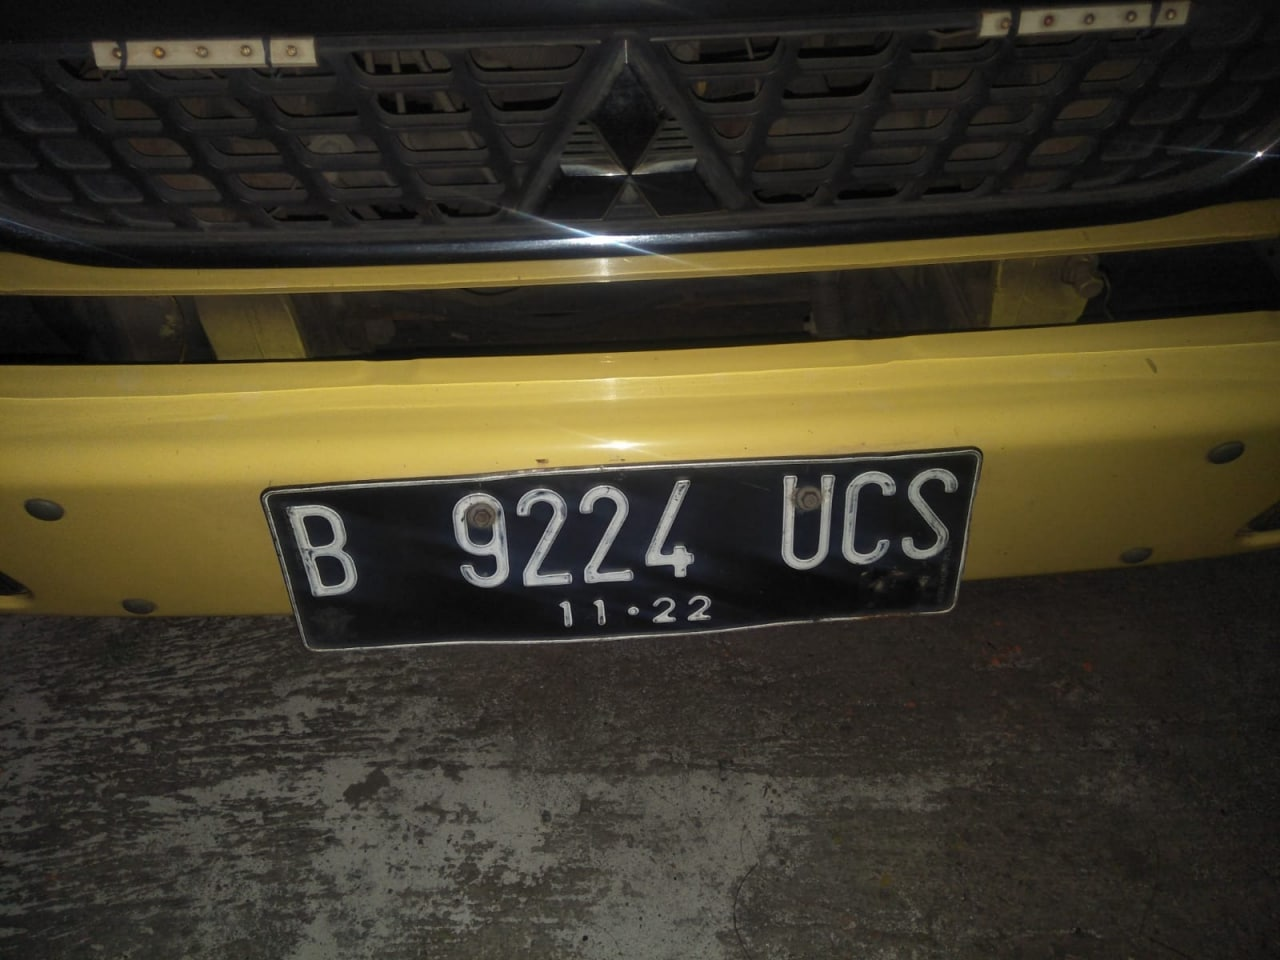plate: (280, 460, 968, 635)
